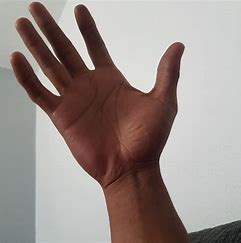palm: (8, 1, 186, 187)
